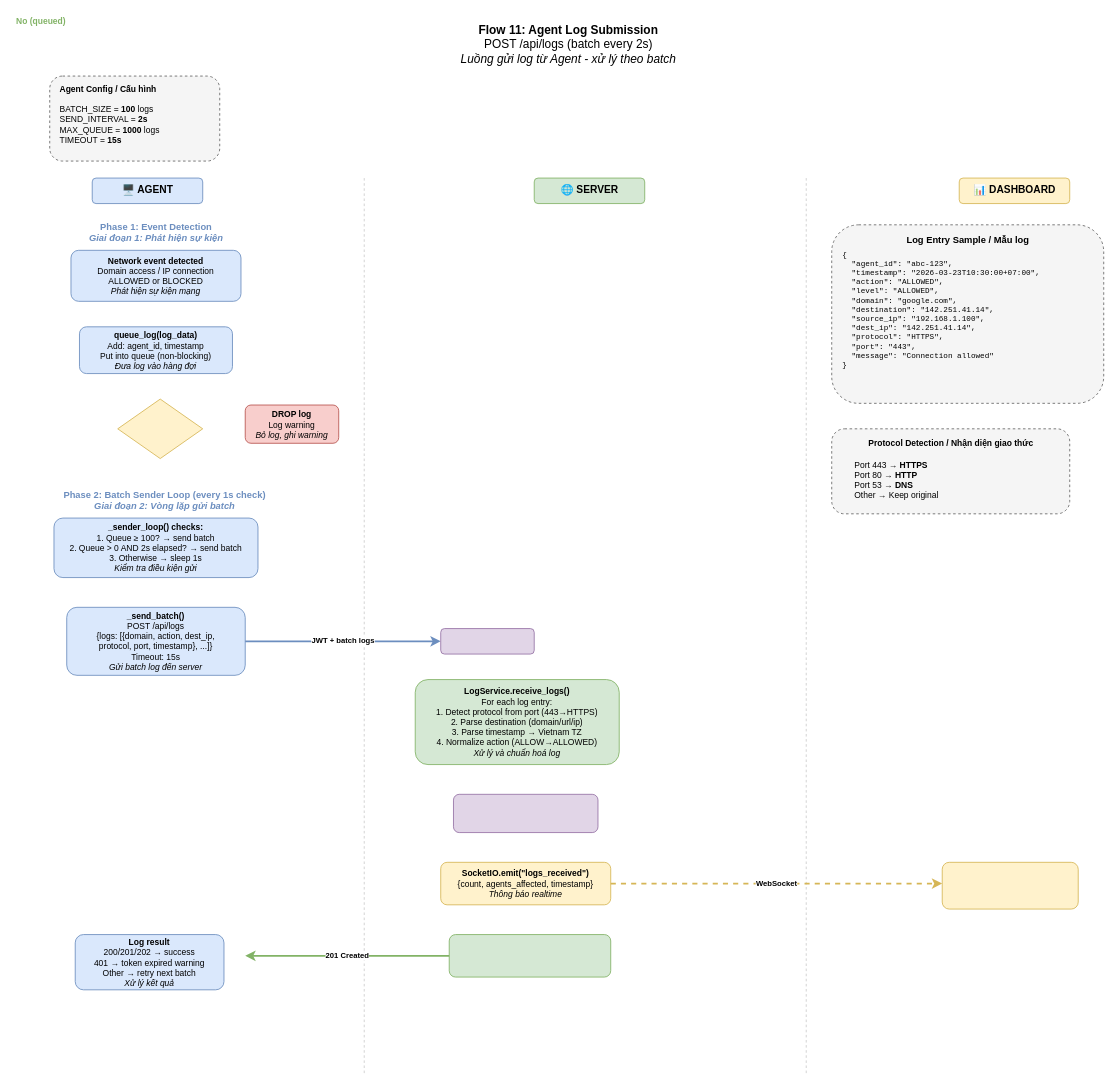
The diagram is 1119 pixels wide and 1091 high, and some of its shapes have lost their labels. The shapes that lost their labels are listed below. From the top down, each one's centre as x and y in pixels, then its label:
At [160,428]: "Queue full? Hàng đợi đầy? (≥1000)".
At [487,641]: "@require_jwt".
At [525,813]: "insert_many(logs) Bulk insert to MongoDB Lưu hàng loạt vào DB".
At [1009,885]: "Logs page refresh New entries appear Stats update Trang logs cập nhật".
At [529,955]: "201 Created {success: true, inserted_count: 100} Xác nhận đã nhận log".
